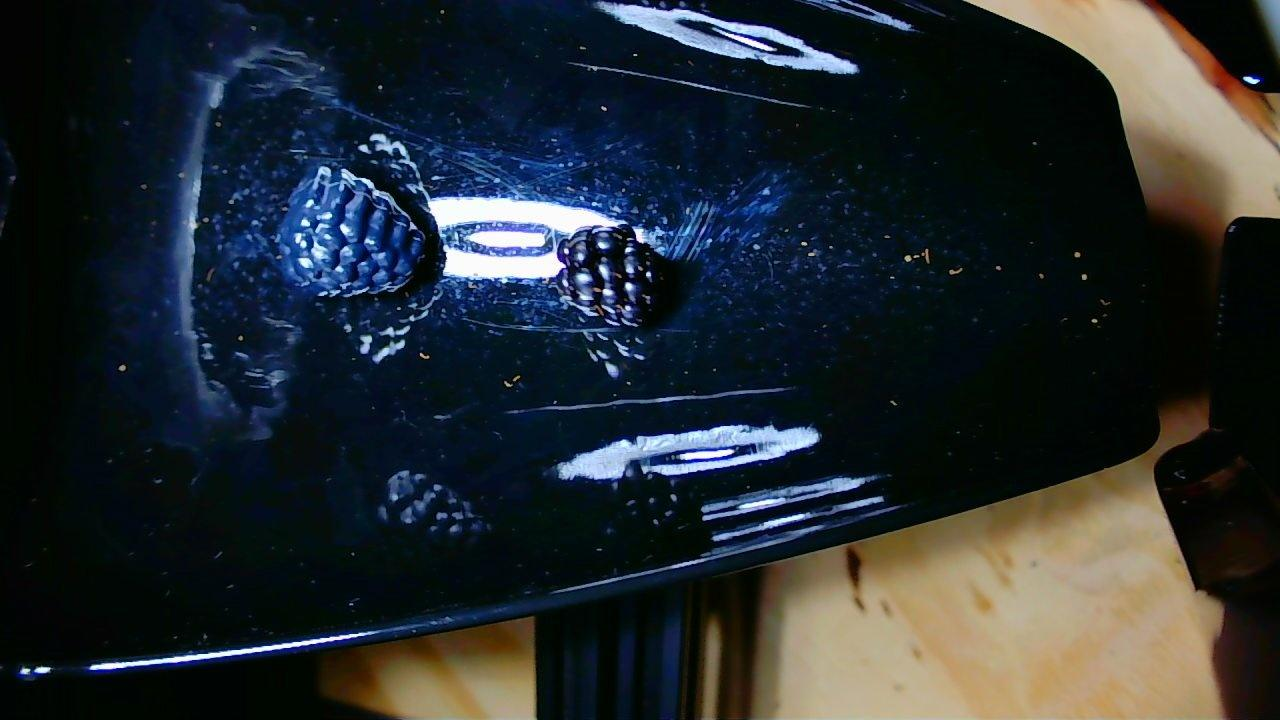berry: (277, 166, 427, 296), (556, 226, 664, 326)
